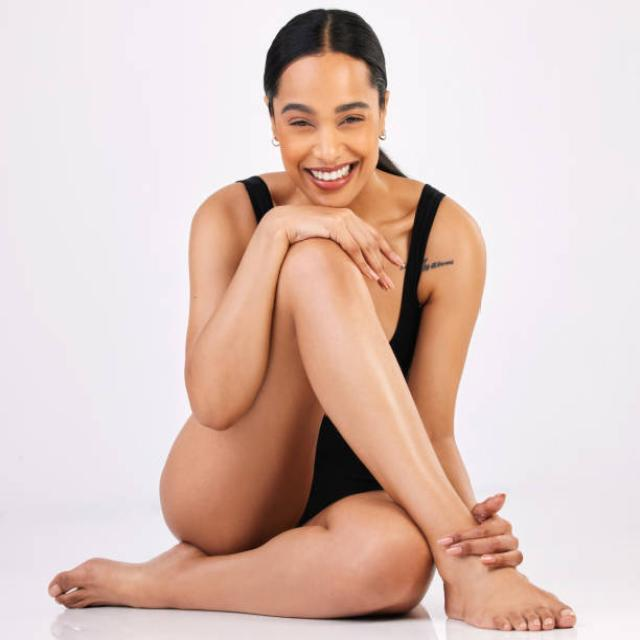Edited images: (56, 6, 592, 639)
